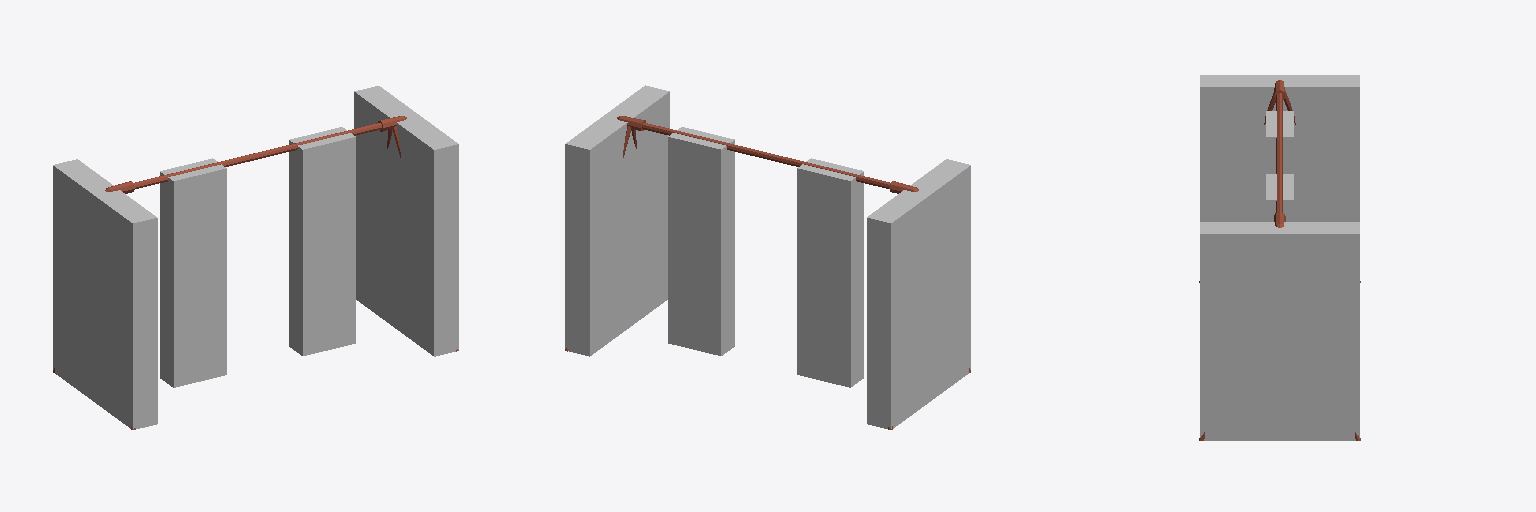
3 views of the same model, side by side, from view 1: azimuth 30°, elevation 25°; view 2: azimuth 150°, elevation 25°; view 3: azimuth 270°, elevation 25° (orthographic).
Visible parts, largest first — view 1: cBox_Balancoire_Cube.019, cBox_Balancoire02_Cube.020, cBox_Balancoire04_Cube.022, cBox_Balancoire03_Cube.021, Balancoire_Cylinder.002; view 2: cBox_Balancoire_Cube.019, cBox_Balancoire02_Cube.020, cBox_Balancoire03_Cube.021, cBox_Balancoire04_Cube.022, Balancoire_Cylinder.002; view 3: cBox_Balancoire02_Cube.020, cBox_Balancoire_Cube.019, cBox_Balancoire04_Cube.022, Balancoire_Cylinder.002, cBox_Balancoire03_Cube.021.
Boxes of the visible parts, x1,y1,x2,y2 form: cBox_Balancoire_Cube.019: [53, 159, 157, 428]; cBox_Balancoire02_Cube.020: [354, 86, 458, 356]; cBox_Balancoire04_Cube.022: [160, 158, 226, 387]; cBox_Balancoire03_Cube.021: [289, 127, 355, 355]; Balancoire_Cylinder.002: [53, 116, 458, 429]; cBox_Balancoire_Cube.019: [867, 159, 970, 428]; cBox_Balancoire02_Cube.020: [565, 85, 669, 356]; cBox_Balancoire03_Cube.021: [668, 127, 734, 355]; cBox_Balancoire04_Cube.022: [797, 158, 863, 387]; Balancoire_Cylinder.002: [565, 116, 970, 429]; cBox_Balancoire02_Cube.020: [1200, 222, 1359, 440]; cBox_Balancoire_Cube.019: [1200, 75, 1359, 221]; cBox_Balancoire04_Cube.022: [1266, 111, 1293, 173]; Balancoire_Cylinder.002: [1199, 80, 1360, 440]; cBox_Balancoire03_Cube.021: [1266, 174, 1293, 221].
Bounding box in the file's own units: 9.74 × 5.97 × 4.17.
2 materials, 1 textured.